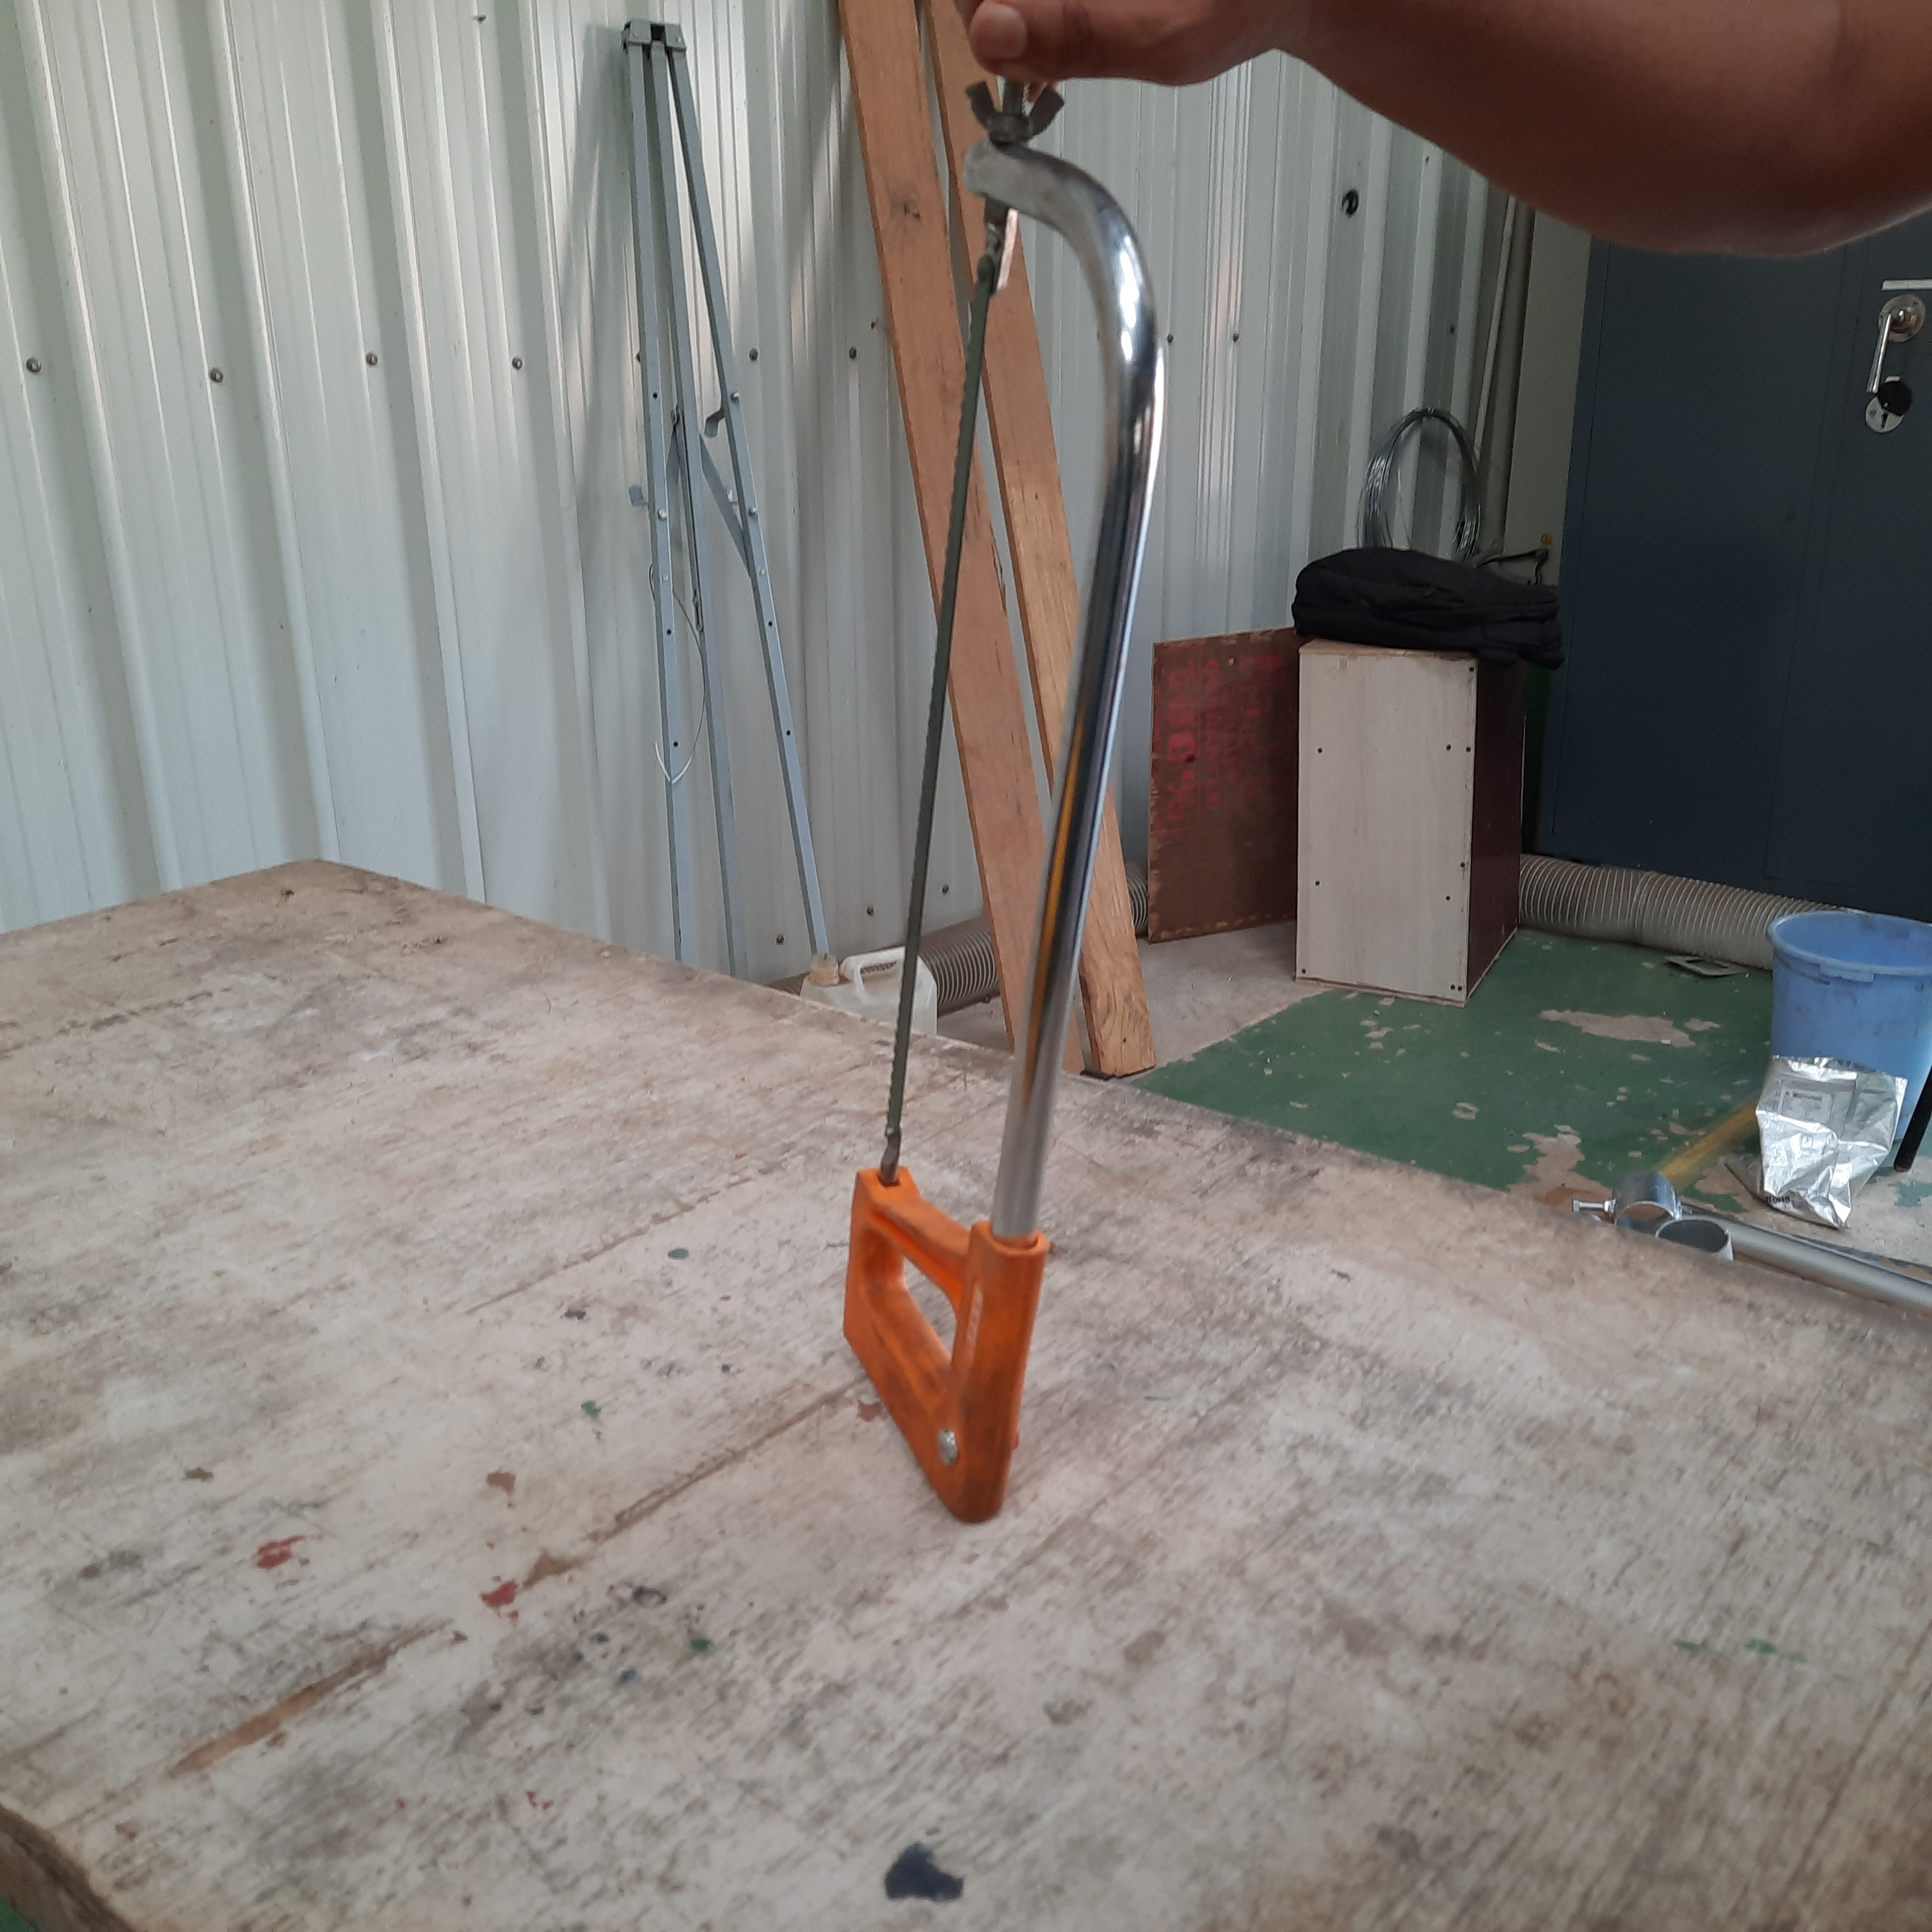Hexaframe: (833, 76, 1191, 1546)
